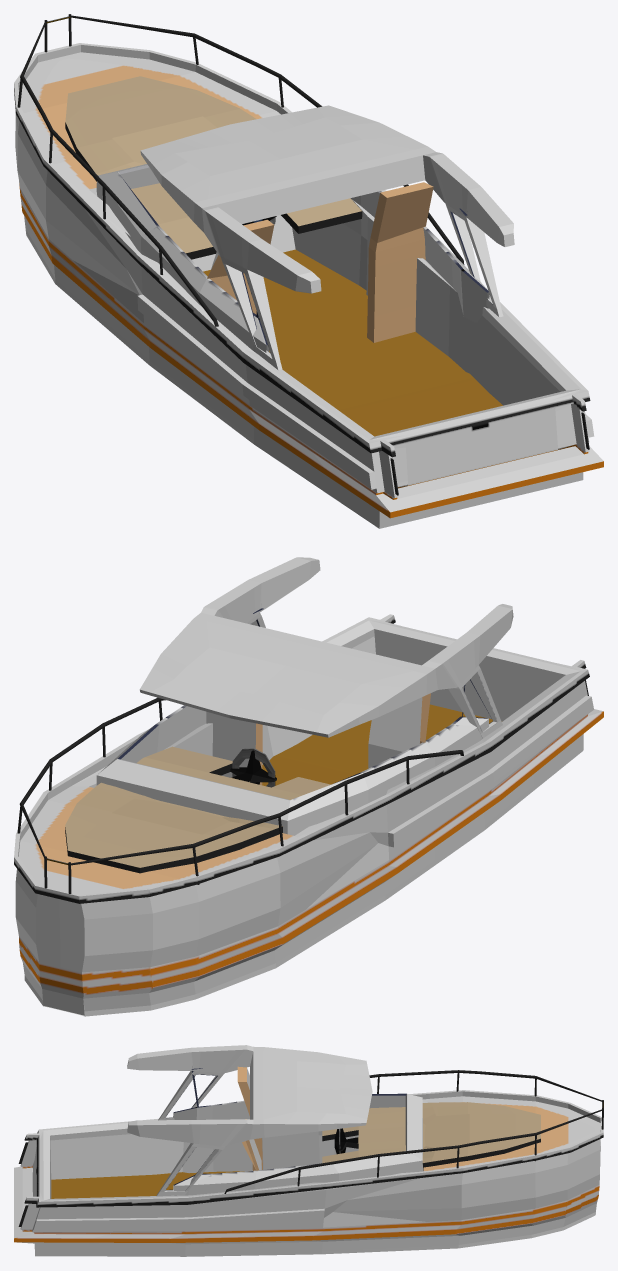
The model's file is yacht.glb.
3 views of the same model, one above another, from view 1: azimuth 30°, elevation 25°; view 2: azimuth 150°, elevation 25°; view 3: azimuth 270°, elevation 25° (orthographic). The views are drawn at different scales.
Visible parts, largest first — view 1: Boat; view 2: Boat; view 3: Boat.
Part boxes in pixels (bbox=[...]): Boat: bbox=[14, 14, 603, 528]; Boat: bbox=[14, 557, 603, 1016]; Boat: bbox=[14, 1045, 603, 1256].
Size of the model in its own units: 0.9284 by 0.7187 by 2.76.
Materials: 1 (1 with a texture image).
